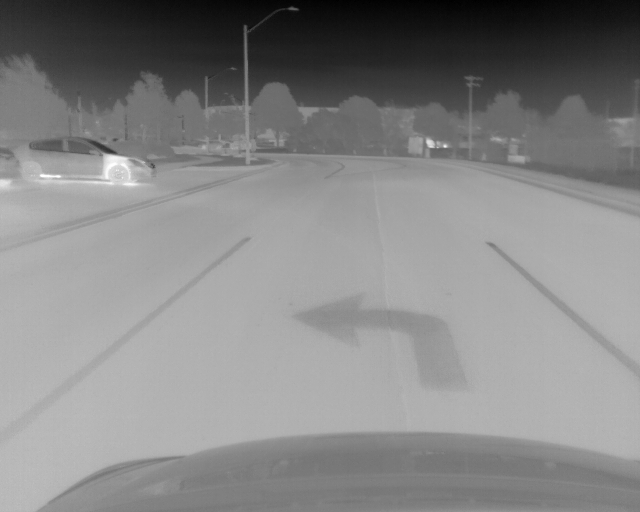car: (21, 129, 157, 183), (1, 142, 22, 189)
